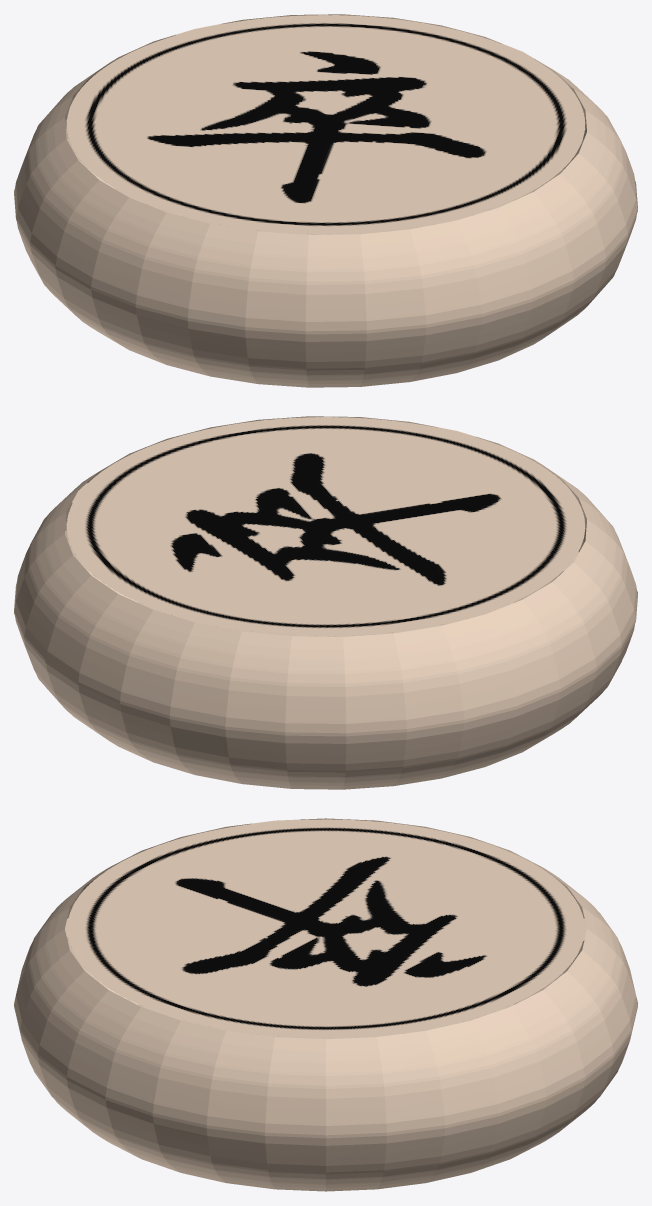
The model's file is black_pawn.fbx.
3 renders of one model, top to bottom at view 1: azimuth 30°, elevation 25°; view 2: azimuth 150°, elevation 25°; view 3: azimuth 270°, elevation 25°, orthographic.
Visible parts, largest first — view 1: Black Pawn; view 2: Black Pawn; view 3: Black Pawn.
Boxes of the visible parts, box(x1,y1,x2,y2) form: Black Pawn: box(14, 14, 637, 387); Black Pawn: box(14, 416, 637, 789); Black Pawn: box(14, 818, 637, 1191).
Bounding box in the file's own units: 245 × 66.11 × 245.
2 materials, 1 textured.
